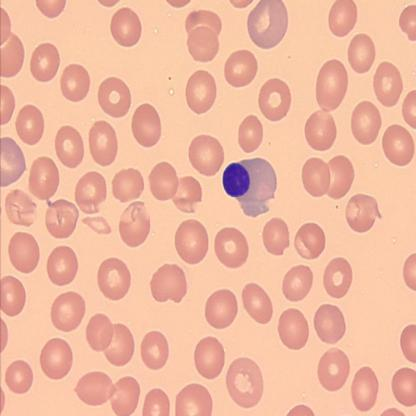NRC: (221, 156, 279, 220)
